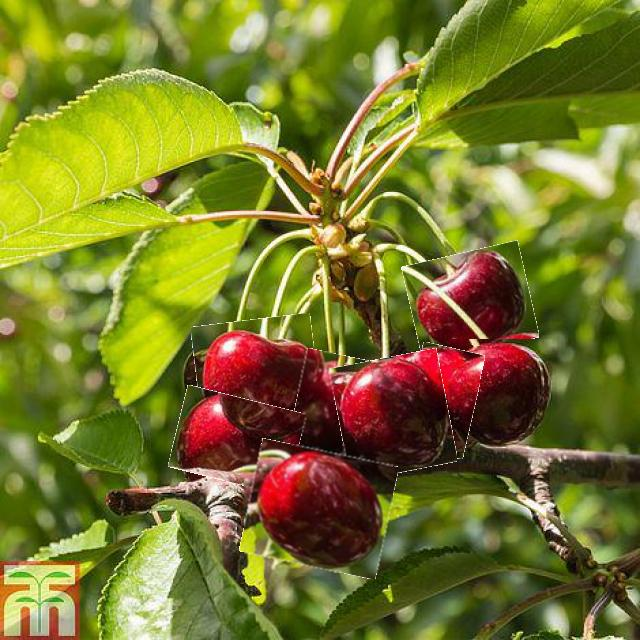cherry: (244, 444, 393, 573), (194, 317, 320, 437), (334, 352, 453, 477), (406, 246, 535, 357), (172, 392, 302, 490), (450, 339, 556, 449), (292, 351, 370, 458), (406, 345, 480, 456)
